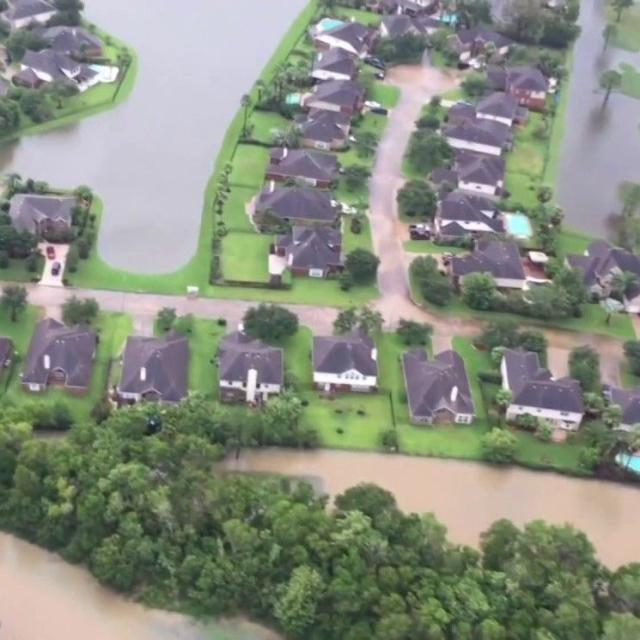flooded_areas: (10, 36, 632, 634)
